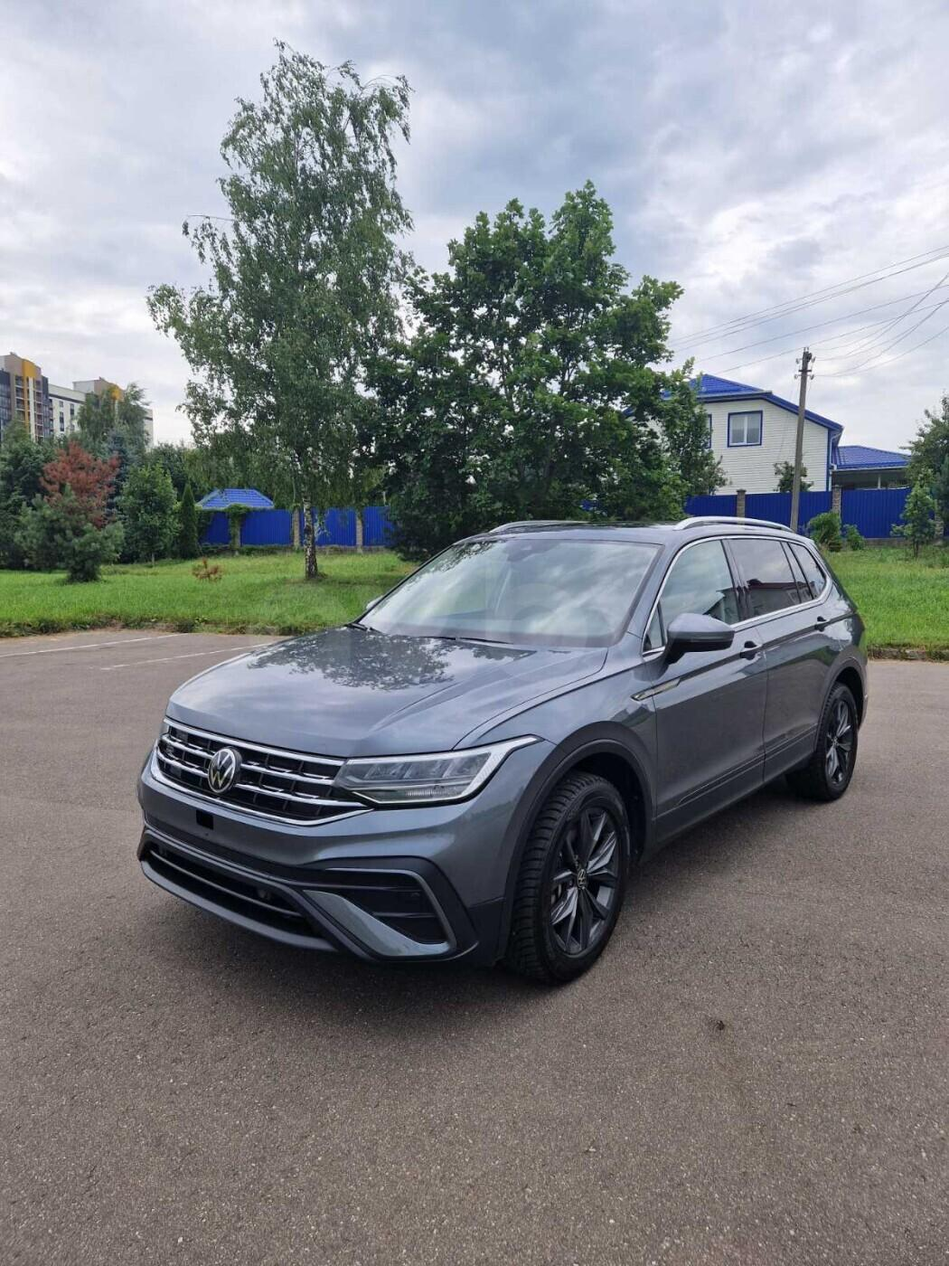Tiguan_2020-2024: (137, 514, 868, 995)
